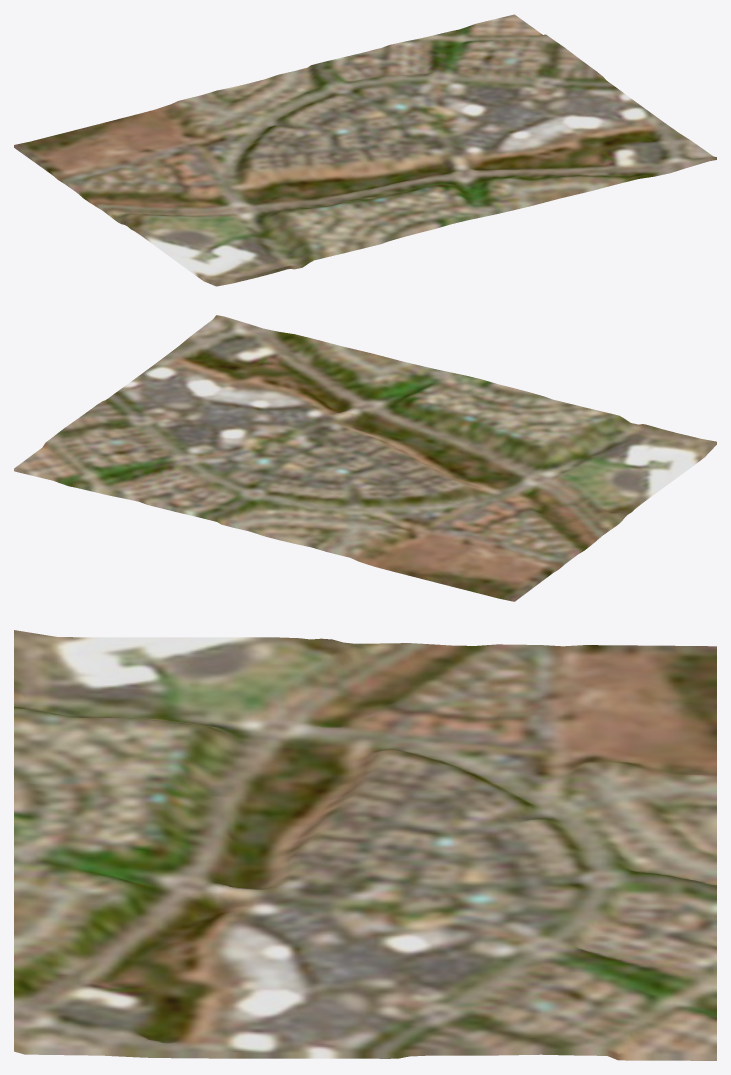
Rendered from terrain_r3_c4_lod1.glb.
3 renders of one model, top to bottom at view 1: azimuth 30°, elevation 25°; view 2: azimuth 150°, elevation 25°; view 3: azimuth 270°, elevation 25°, orthographic. The views are drawn at different scales.
Visible parts, largest first — view 1: terrain_r3_c4_lod1; view 2: terrain_r3_c4_lod1; view 3: terrain_r3_c4_lod1.
Boxes of the visible parts, left/top/right/bottom form: terrain_r3_c4_lod1: left=14, top=14, right=716, bottom=286; terrain_r3_c4_lod1: left=14, top=315, right=716, bottom=601; terrain_r3_c4_lod1: left=14, top=630, right=716, bottom=1060.
Size of the model in its own units: 1125 by 37.91 by 787.
Materials: 1 (1 with a texture image).
